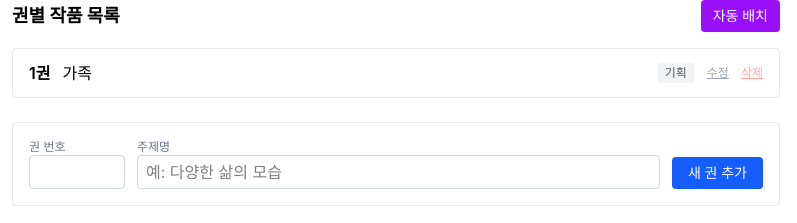
it: 권 삭제는 확인 후 목록에서 제거한다
The image size is (797, 223).
Expected: the text "가족" is shown, [62,63,92,83]
Click the button "삭제": (752, 73) [741,65,763,81]
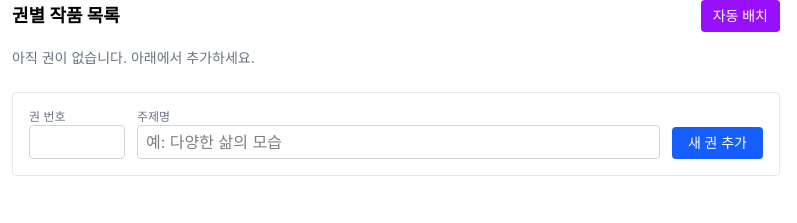
Expected: the link "가족" is gone
